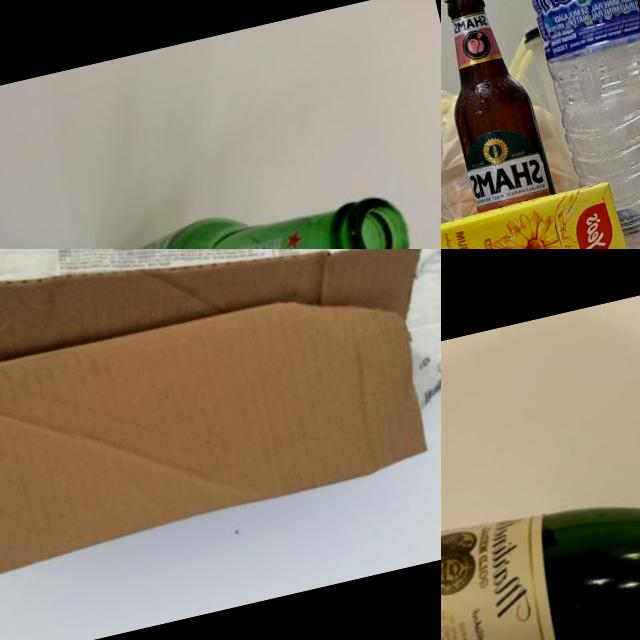caixinha: (441, 180, 634, 249)
garrafa de vidro: (441, 410, 640, 640), (71, 171, 423, 249), (441, 0, 555, 212)
garrafa plástica: (499, 0, 640, 249)
papelão: (0, 249, 441, 605)
